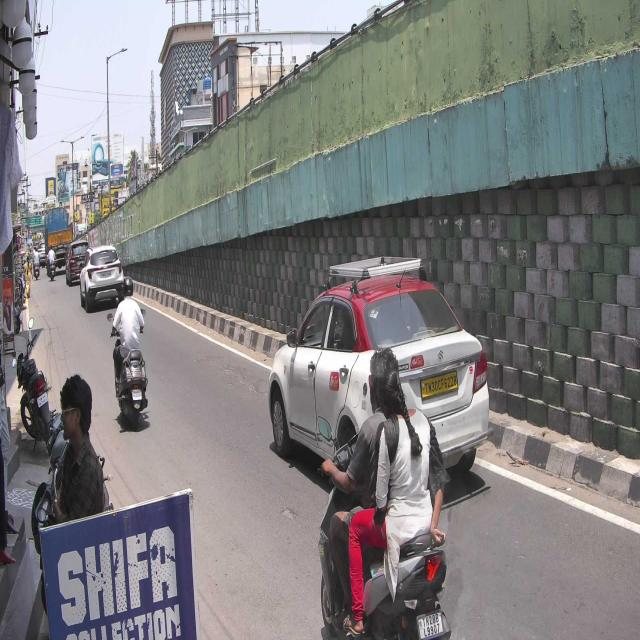double_rider: (316, 346, 451, 640)
single_rider: (107, 274, 150, 428)
